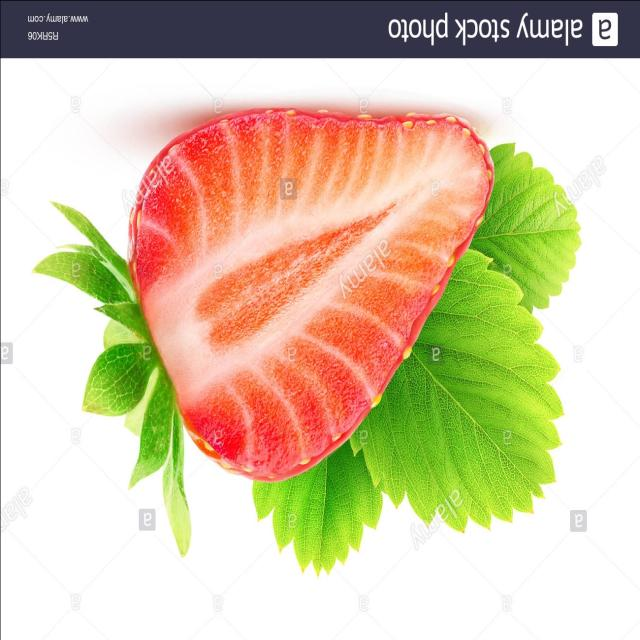strawberry: (16, 82, 567, 585)
